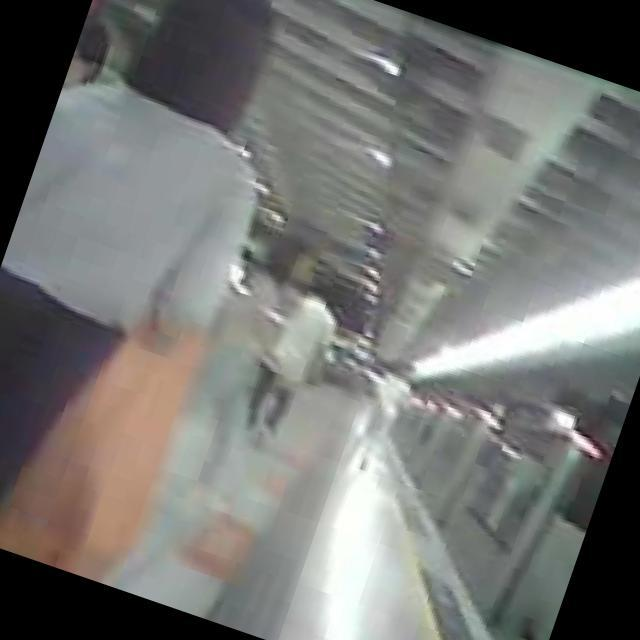person: (0, 0, 319, 589), (157, 220, 330, 524), (232, 274, 352, 456), (349, 347, 426, 478)
